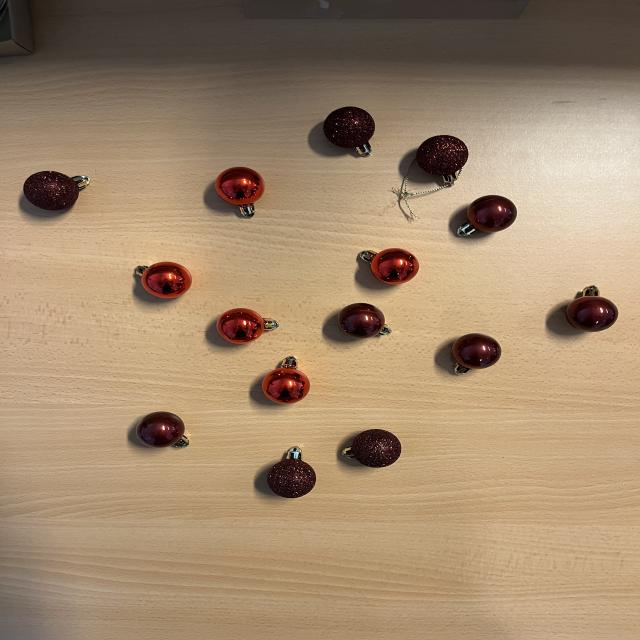glitter-bauble: (412, 134, 471, 187), (21, 170, 93, 213), (321, 105, 378, 158), (265, 444, 318, 500), (336, 428, 404, 470), (23, 171, 91, 211), (323, 107, 375, 157), (416, 135, 469, 184), (267, 447, 317, 498), (342, 429, 401, 468)
glossy-bauble: (212, 166, 270, 220), (258, 354, 313, 407), (214, 306, 281, 346), (356, 246, 421, 287), (215, 167, 265, 219), (132, 260, 194, 300), (262, 356, 310, 404), (216, 308, 279, 344), (360, 248, 419, 285), (134, 262, 192, 299)
wine-red-bauble: (454, 193, 524, 240), (562, 284, 622, 333), (448, 331, 507, 376), (134, 410, 194, 454), (457, 195, 517, 237), (565, 285, 618, 332), (334, 300, 394, 340), (451, 333, 502, 375), (136, 411, 189, 448), (338, 303, 391, 339)
